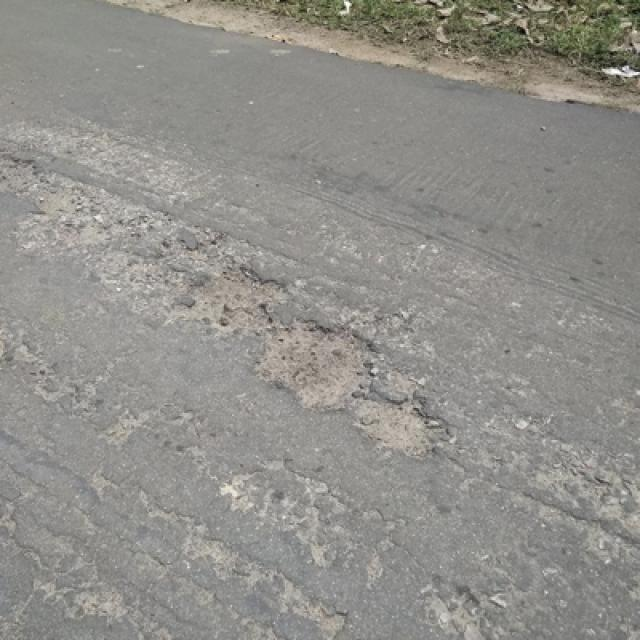objects: (173, 257, 443, 458)
